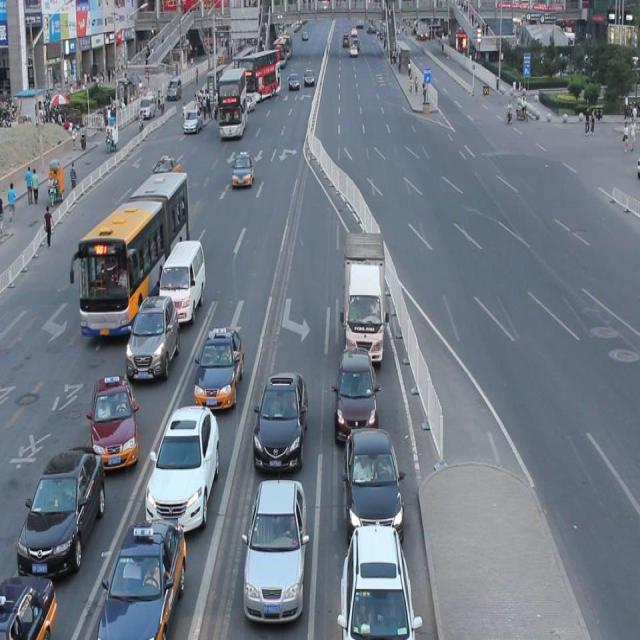bus: (344, 229, 384, 360)
car: (16, 445, 105, 579), (95, 516, 187, 640), (143, 403, 220, 536), (242, 475, 308, 622), (338, 519, 415, 640), (342, 425, 403, 539), (252, 369, 308, 474), (89, 374, 139, 472), (124, 295, 180, 382), (334, 346, 379, 448), (194, 324, 244, 410), (1, 572, 58, 640), (231, 151, 253, 187), (151, 153, 180, 180)
truck: (157, 238, 206, 326)
van: (80, 172, 189, 334)
